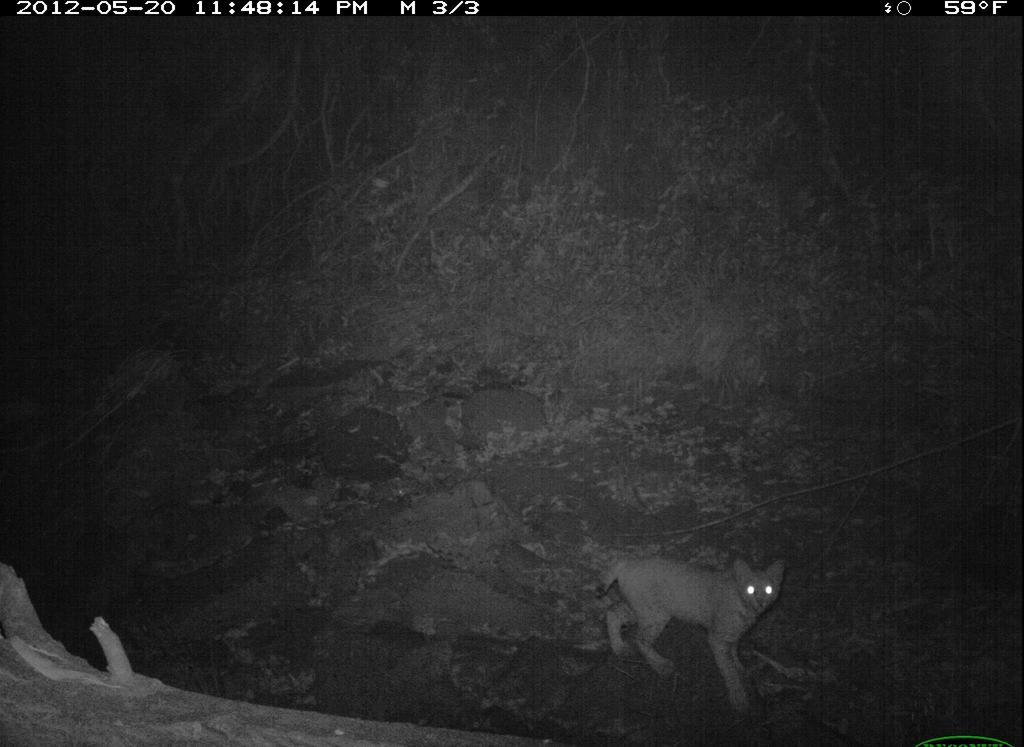bobcat: (569, 533, 802, 715)
